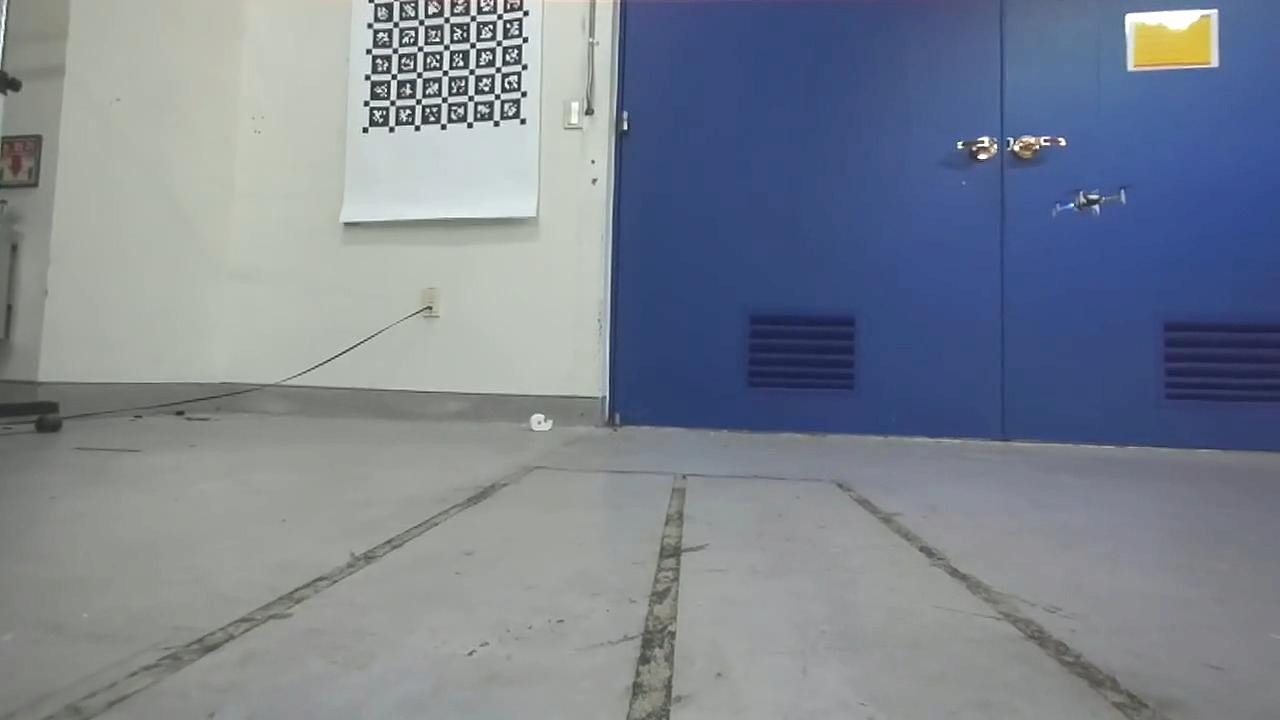crazyflie: (1047, 183, 1132, 222)
